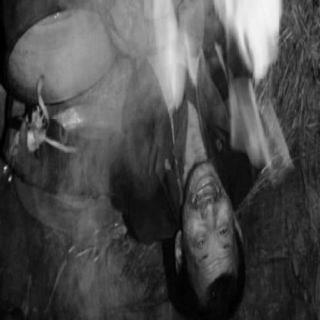Fire: (142, 2, 300, 180)
